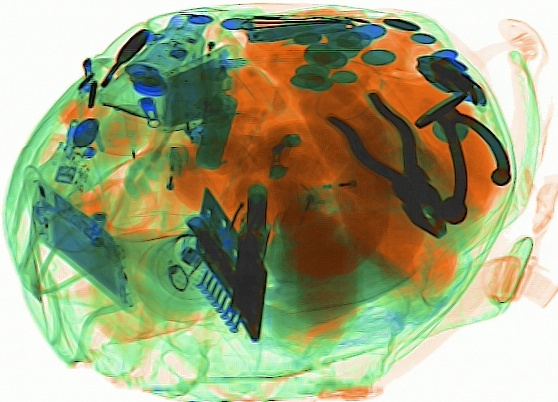lighter: (293, 176, 386, 214), (155, 142, 191, 233), (195, 20, 222, 74)
